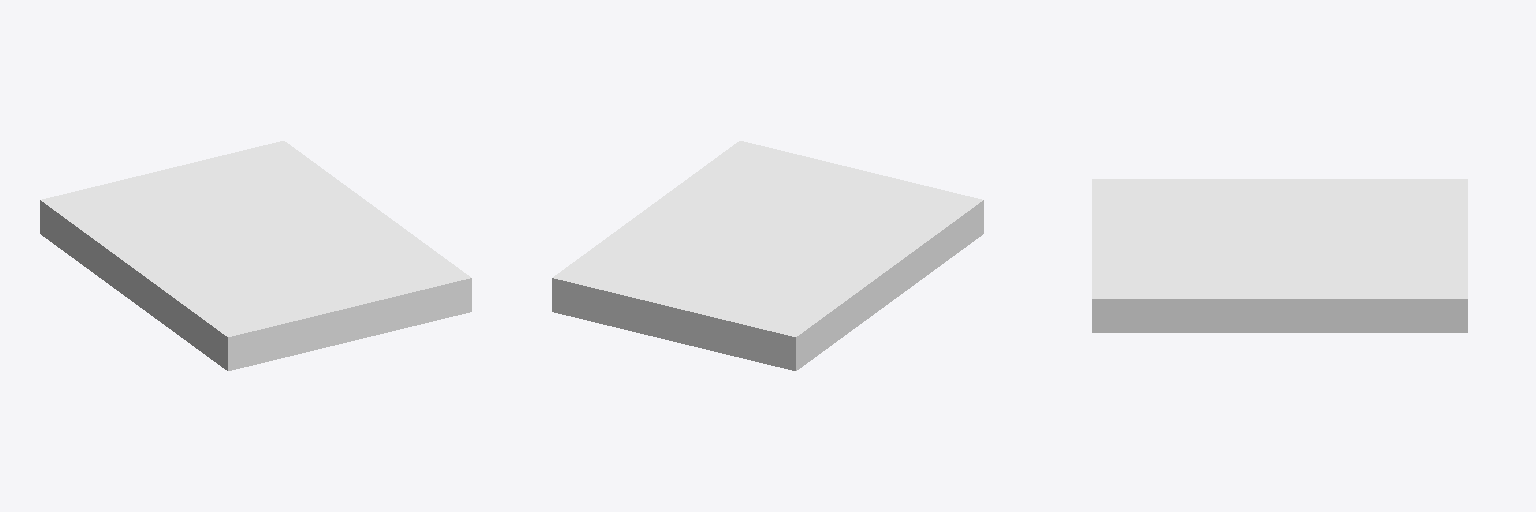
File: Sidewalk.obj
The picture shows the model from 3 angles: view 1: azimuth 30°, elevation 25°; view 2: azimuth 150°, elevation 25°; view 3: azimuth 270°, elevation 25°; orthographic projection.
Parts seen in each view (by area): view 1: Sidewalk; view 2: Sidewalk; view 3: Sidewalk.
Part boxes in pixels (left/top/right/bottom): Sidewalk: left=40, top=141, right=471, bottom=370; Sidewalk: left=552, top=141, right=983, bottom=370; Sidewalk: left=1092, top=179, right=1467, bottom=332.
Size of the model in its own units: 30 by 4 by 40.